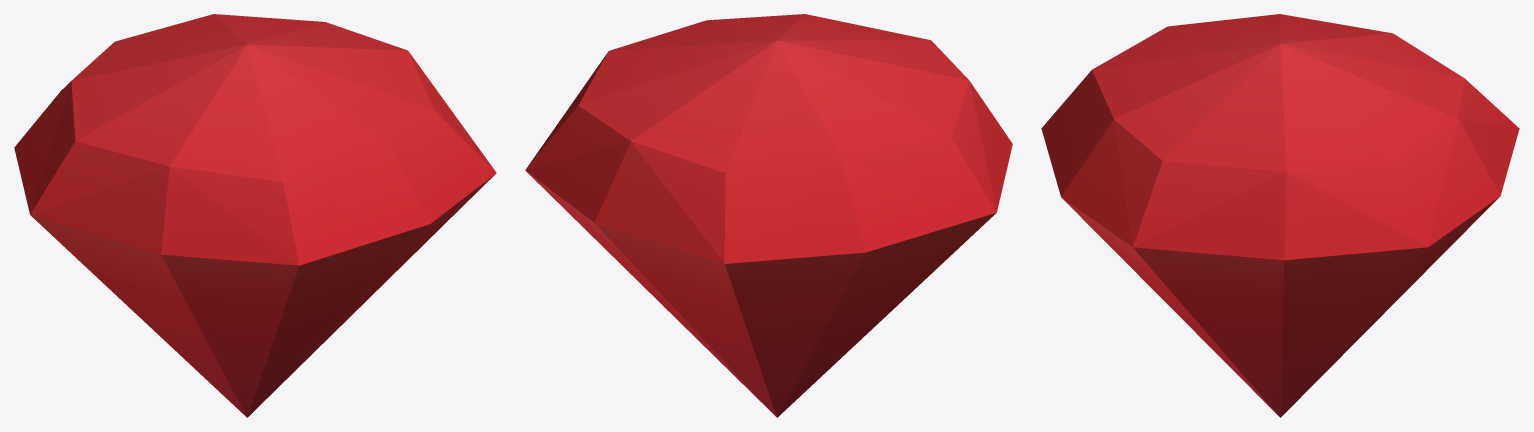
The model's file is RedGem.glb.
3 views of the same model, side by side, from view 1: azimuth 30°, elevation 25°; view 2: azimuth 150°, elevation 25°; view 3: azimuth 270°, elevation 25° (orthographic).
Visible parts, largest first — view 1: GemRed; view 2: GemRed; view 3: GemRed.
Part boxes in pixels (<box>): GemRed: <box>14,14,496,417</box>; GemRed: <box>525,14,1012,417</box>; GemRed: <box>1041,14,1519,417</box>.
Size of the model in its own units: 1.04 by 0.8836 by 1.02.
1 material, 1 textured.
